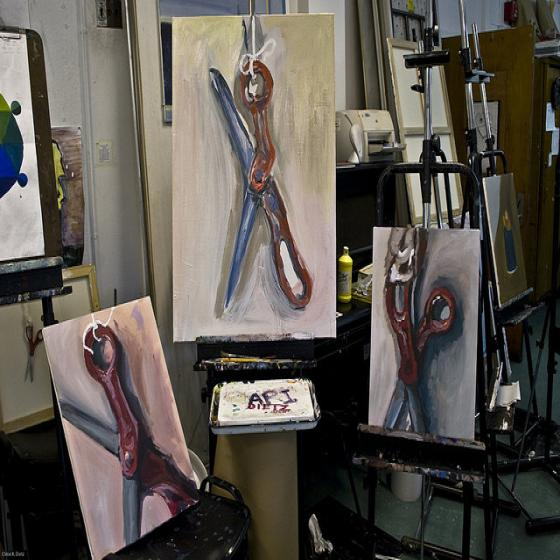chair: (49, 367, 253, 560)
scissors: (59, 329, 201, 543), (207, 58, 313, 310), (382, 283, 453, 436), (25, 324, 43, 381)
